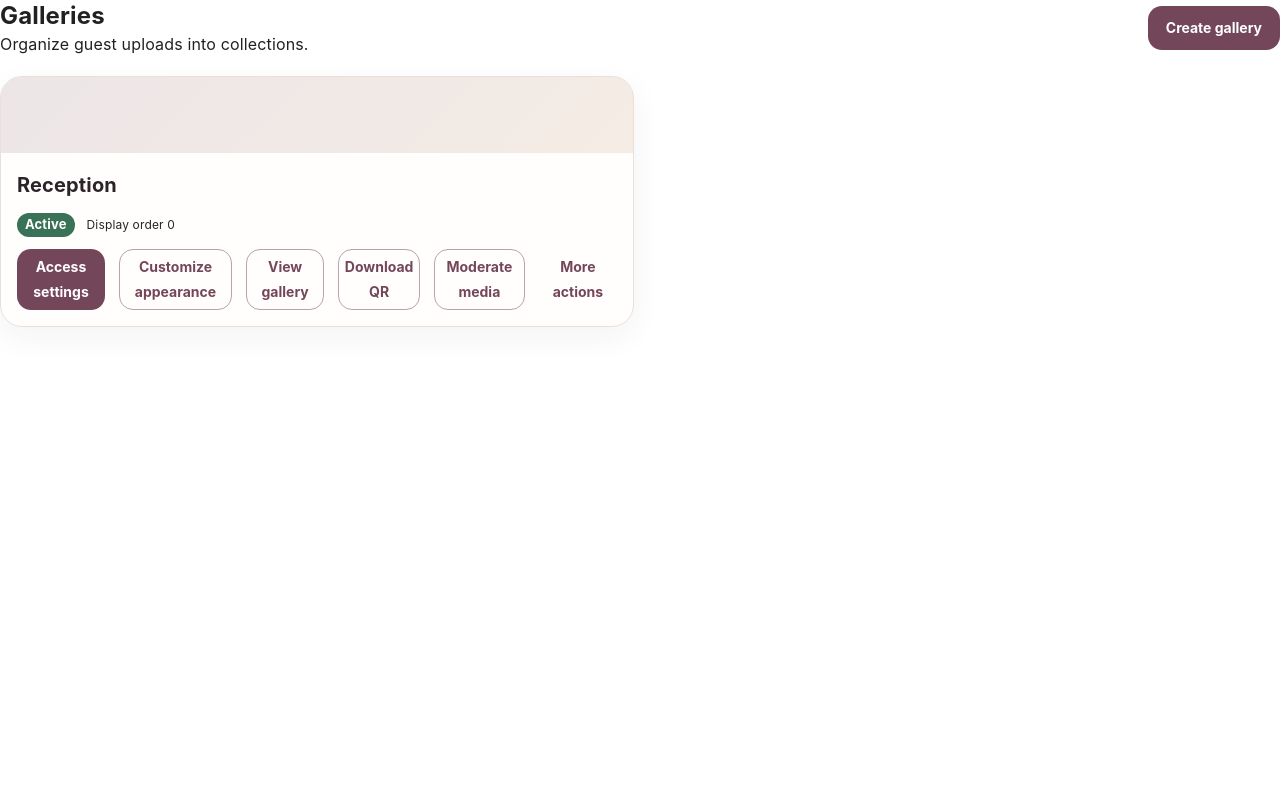
it: GalleryManager › lets the owner rotate a one-time private share link
Expected: the heading "Reception" is shown, [17, 173, 117, 197]
Click the button "Access settings" at {"x": 61, "y": 280}, box [17, 249, 105, 310]
(page scrolled)
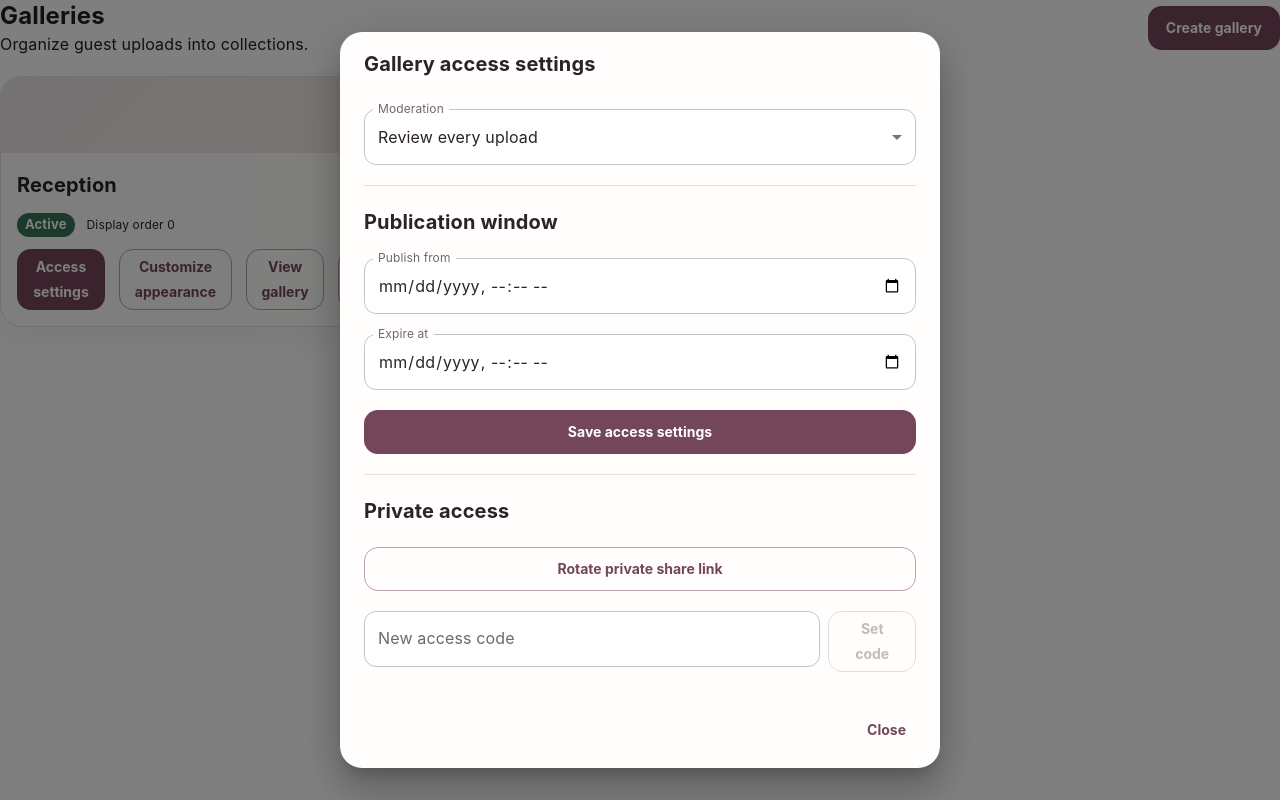
Click the button "Rotate private share link" at {"x": 640, "y": 569}, box [364, 547, 916, 591]
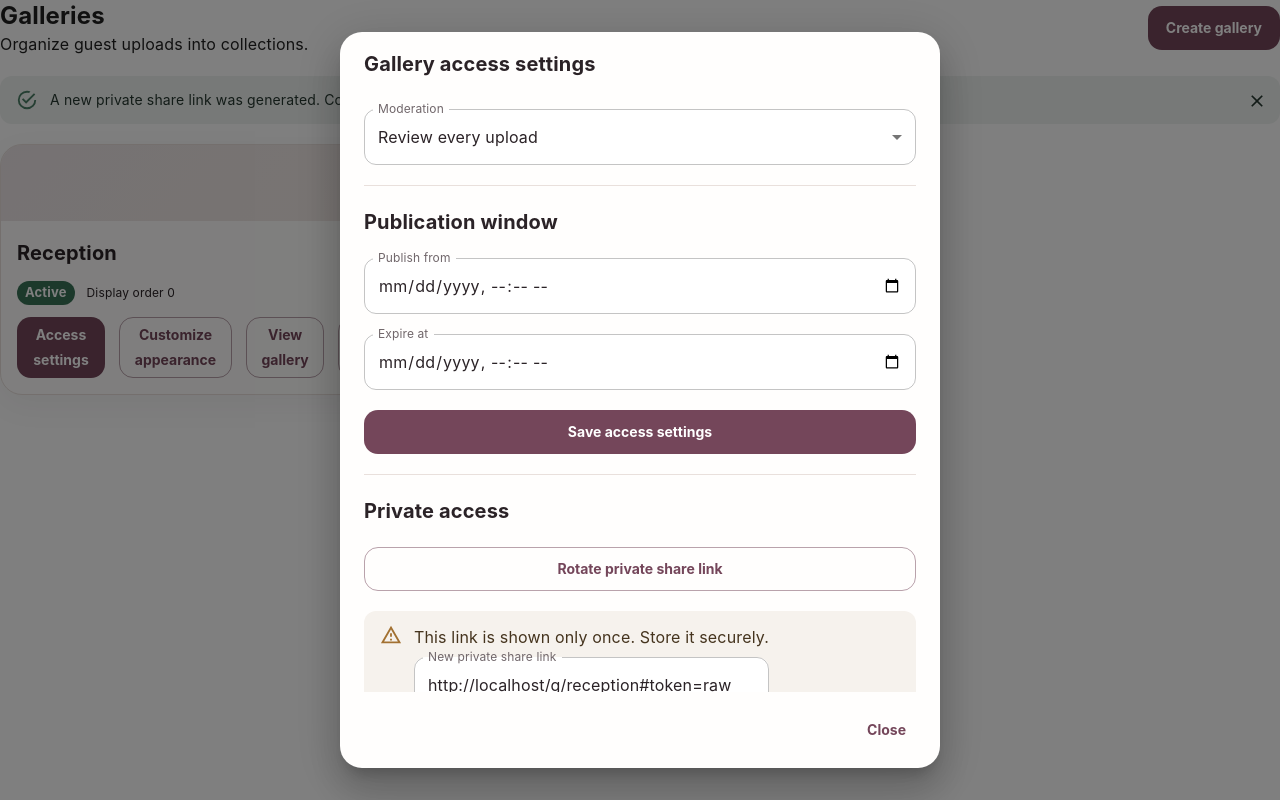
Expected: the text "This link is shown only once. Store it securely." is shown, [414, 625, 769, 649]
